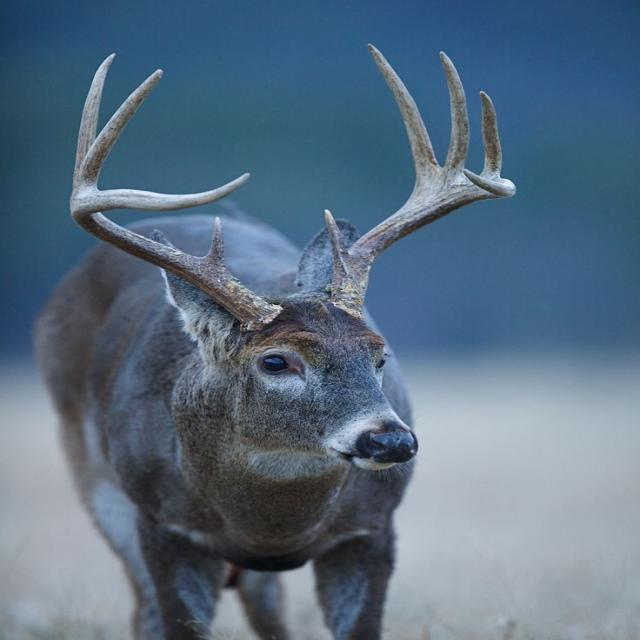L-F: (329, 169, 516, 320)
L-G1: (323, 208, 351, 266)
L-G2: (366, 43, 442, 180)
L-G3: (439, 50, 469, 174)
L-G4: (478, 89, 502, 178)
R-F: (69, 172, 284, 333)
R-G1: (204, 216, 224, 268)
R-G3: (75, 68, 165, 193)
